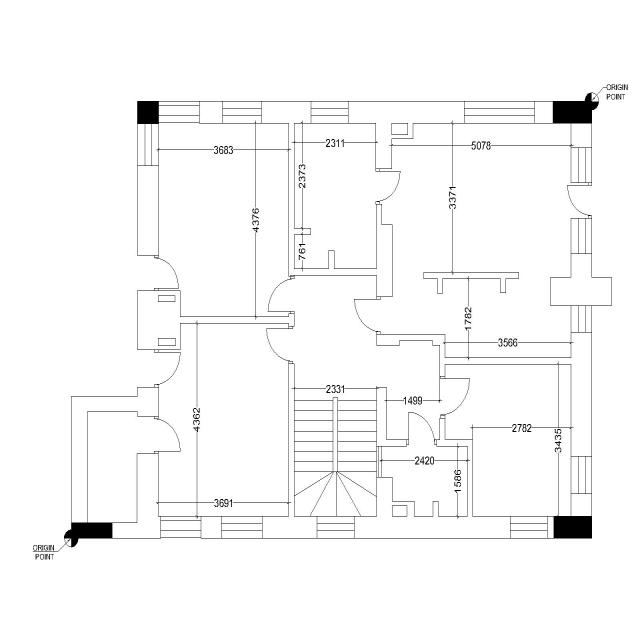Column: (553, 101, 592, 124), (554, 516, 592, 539), (72, 522, 112, 538), (137, 101, 159, 124)
Door: (440, 376, 470, 418), (406, 412, 437, 447), (266, 327, 293, 364), (154, 416, 180, 454), (154, 350, 180, 388), (355, 296, 381, 334), (268, 276, 294, 313), (154, 255, 179, 291), (567, 183, 592, 218), (376, 168, 400, 204)
Staircase: (294, 387, 376, 516)
Window: (464, 101, 535, 123), (137, 124, 159, 166), (158, 101, 200, 122), (222, 101, 262, 123), (222, 516, 262, 538), (510, 516, 548, 539), (311, 101, 348, 124), (161, 516, 201, 537), (317, 516, 354, 538), (571, 456, 592, 494), (571, 147, 592, 183), (571, 218, 592, 254), (571, 306, 592, 332)
